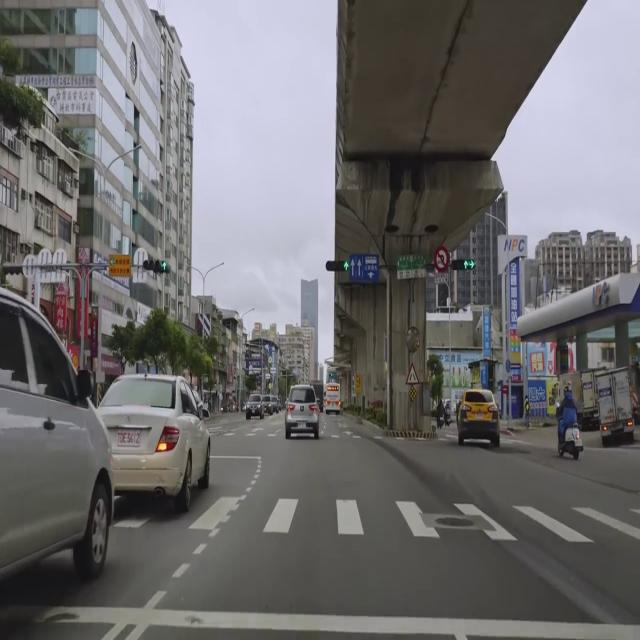green light: (452, 257, 475, 271), (142, 260, 167, 272), (326, 260, 348, 272)
